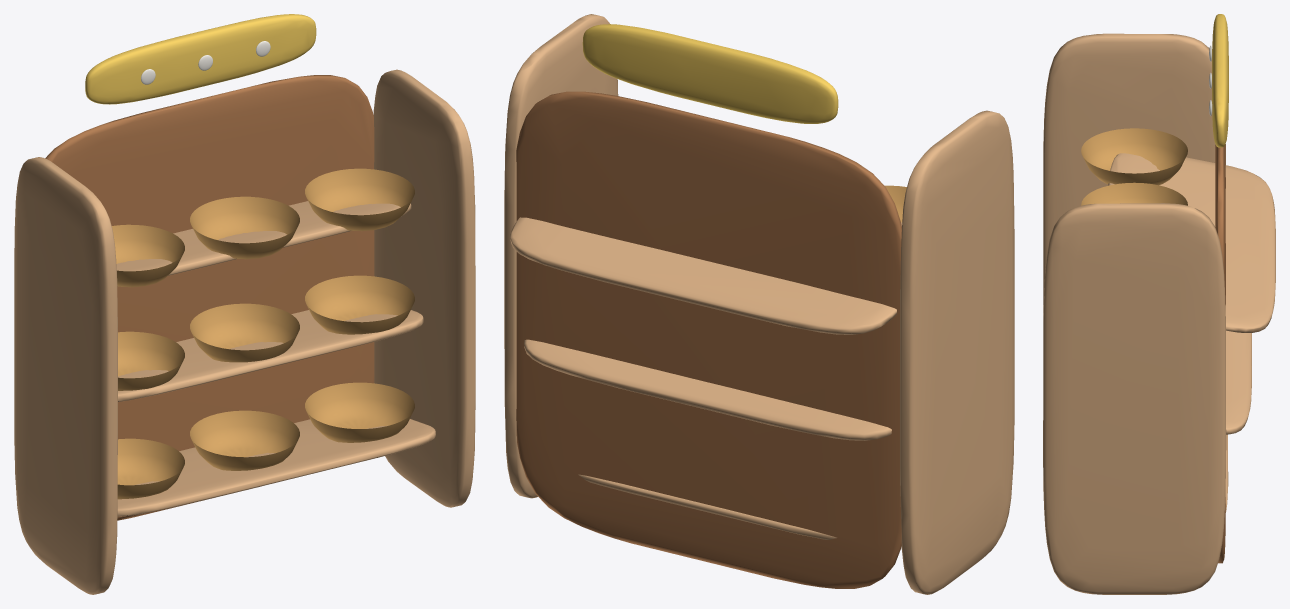
The model's file is vitrina_panaderia_2.glb.
The picture shows the model from 3 angles, left to right: view 1: azimuth 30°, elevation 25°; view 2: azimuth 150°, elevation 25°; view 3: azimuth 270°, elevation 25°; orthographic projection. The views are drawn at different scales.
Parts seen in each view (by area): view 1: fondo.004, lateral.002, lateral.003, letrero.003, repisa.016, repisa.017, canastita.002, canastita.001, canastita.005, canastita.004, canastita.008, canastita.007 (+4 smaller); view 2: fondo.004, lateral.002, repisa.018, letrero.003, lateral.003, repisa.017, repisa.016; view 3: lateral.003, lateral.002, repisa.018, canastita.006, repisa.017, letrero.003, canastita.007, fondo.004.
Part boxes in pixels (left/top/right/bottom): fondo.004: left=45, top=75, right=374, bottom=520; lateral.002: left=14, top=157, right=117, bottom=594; lateral.003: left=373, top=69, right=475, bottom=507; letrero.003: left=85, top=14, right=316, bottom=104; repisa.016: left=117, top=419, right=435, bottom=516; repisa.017: left=118, top=310, right=423, bottom=401; canastita.002: left=305, top=382, right=414, bottom=442; canastita.001: left=190, top=410, right=299, bottom=470; canastita.005: left=305, top=275, right=414, bottom=334; canastita.004: left=190, top=303, right=299, bottom=362; canastita.008: left=305, top=168, right=414, bottom=231; canastita.007: left=190, top=196, right=299, bottom=259; fondo.004: left=516, top=91, right=901, bottom=588; lateral.002: left=900, top=110, right=1014, bottom=594; repisa.018: left=510, top=217, right=902, bottom=334; letrero.003: left=582, top=24, right=838, bottom=123; lateral.003: left=504, top=14, right=618, bottom=498; repisa.017: left=524, top=339, right=891, bottom=440; repisa.016: left=578, top=474, right=836, bottom=539; lateral.003: left=1043, top=203, right=1226, bottom=594; lateral.002: left=1043, top=33, right=1225, bottom=312; repisa.018: left=1108, top=153, right=1275, bottom=332; canastita.006: left=1081, top=128, right=1187, bottom=185; repisa.017: left=1226, top=330, right=1251, bottom=434; letrero.003: left=1212, top=14, right=1228, bottom=147; canastita.007: left=1081, top=182, right=1187, bottom=205; fondo.004: left=1215, top=144, right=1225, bottom=563.
Bounding box in the file's own units: 1.47 × 1.75 × 0.8129.
